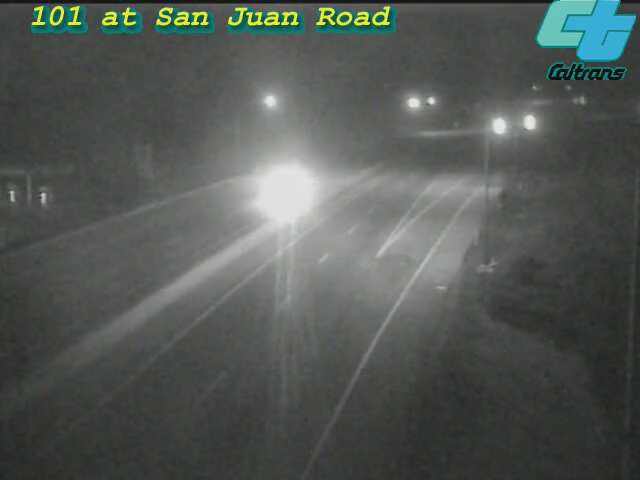vehicle: (237, 156, 317, 236), (475, 102, 525, 152), (502, 98, 552, 148)
